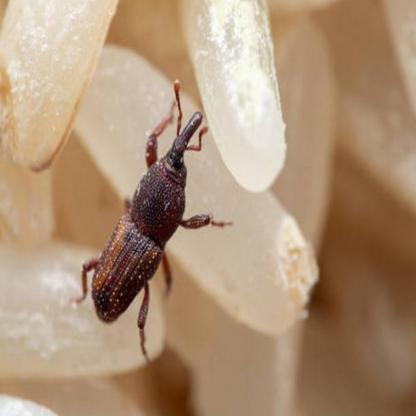rice-bug: (90, 108, 212, 326)
